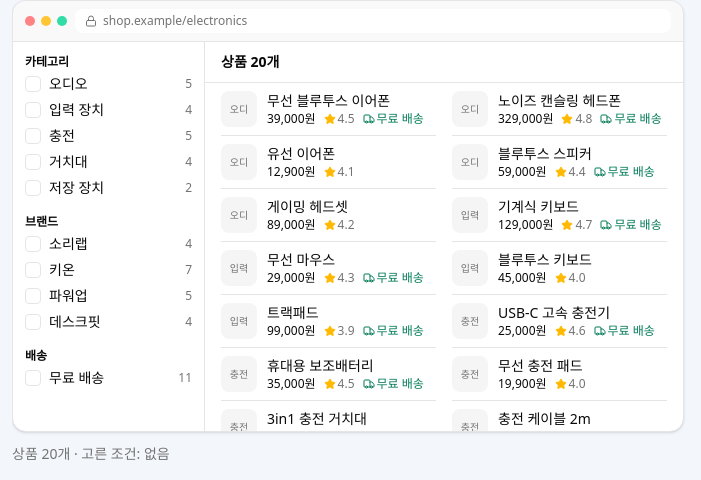
Test: facet filter: counts per option follow the other groups, and empty options are disabled
The width and height of the screenshot is (701, 480).
Expected: the message reads "상품 20개 · 고른 조건: 없음", [12,444,170,463]
What coordinates should you click on to do the following:
click the checkbox named "오디오" next to "오디오"
I would click on:
 (33, 84)
Its box is [25,76,41,92].
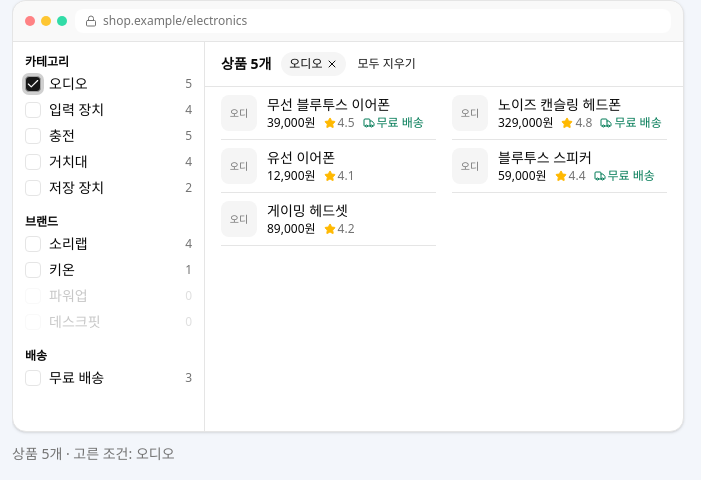
Expected: the message reads "상품 5개 · 고른 조건: 오디오", [12,444,174,463]
What coordinates should you click on to do the following:
click the checkbox named "충전" next to "충전"
I would click on:
 (33, 136)
Its box is [25,128,41,144].
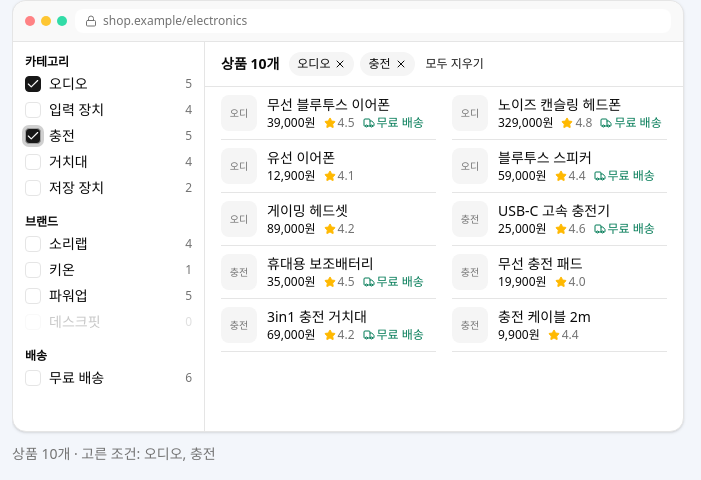
What coordinates should you click on to do the following:
click the 10th checkbox named "무료 배송"
I would click on:
 (33, 378)
Its box is [25,370,41,386].
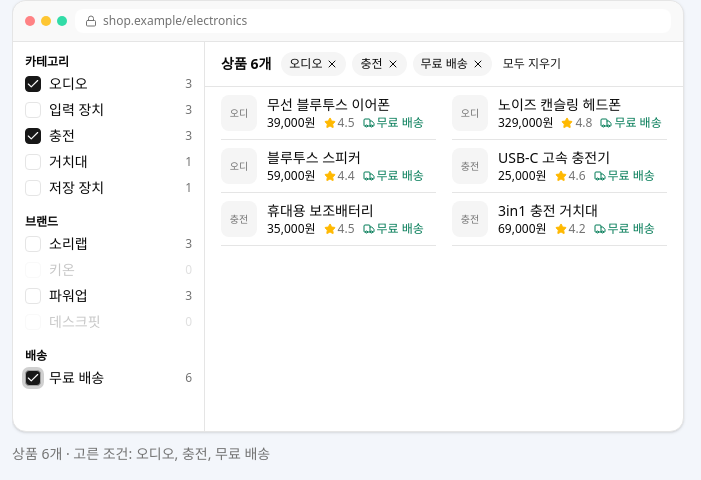
Expected: the message reads "상품 6개 · 고른 조건: 오디오, 충전, 무료 배송", [12,444,270,463]
Expected: the number of list items is 6, [221,87,436,140]; [452,87,667,140]; [221,140,436,193]; [452,140,667,193]; [221,193,436,246]; [452,193,667,246]
What coordinates should you click on to do the following:
click the button with aria-label "오디오 조건 빼기"
I would click on:
 (314, 64)
Its box is [281,52,346,76].
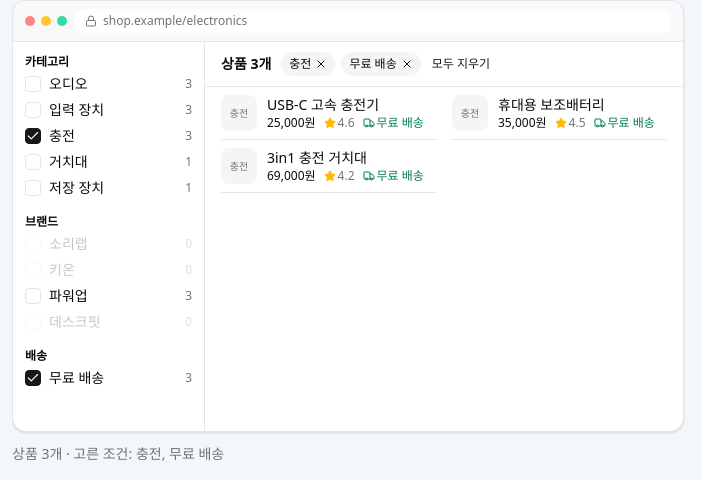
Expected: the checkbox named "오디오" next to "오디오" is not checked, [25,76,41,92]
Expected: the message reads "상품 3개 · 고른 조건: 충전, 무료 배송", [12,444,224,463]
What coordinates should you click on to do the following:
click the button "모두 지우기"
I would click on:
 (461, 64)
Its box is [427,52,495,76].
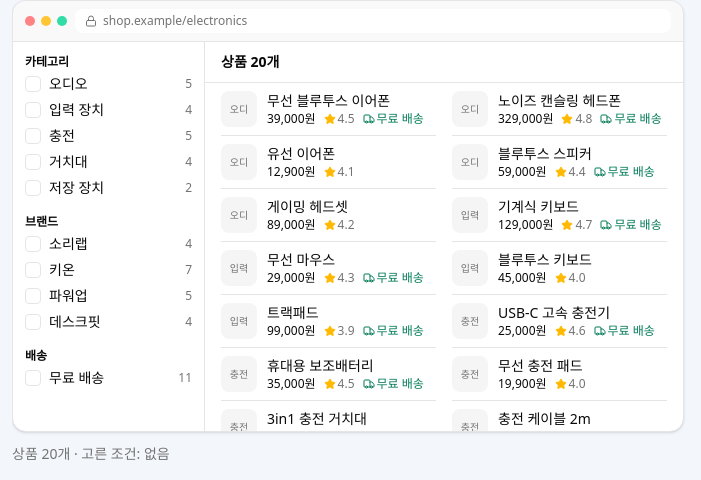
Expected: the message reads "상품 20개 · 고른 조건: 없음", [12,444,170,463]
